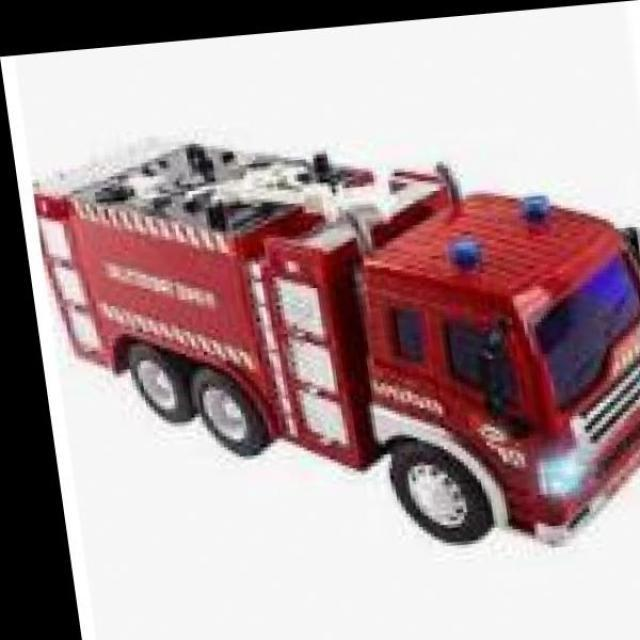emergency: (31, 140, 639, 546)
